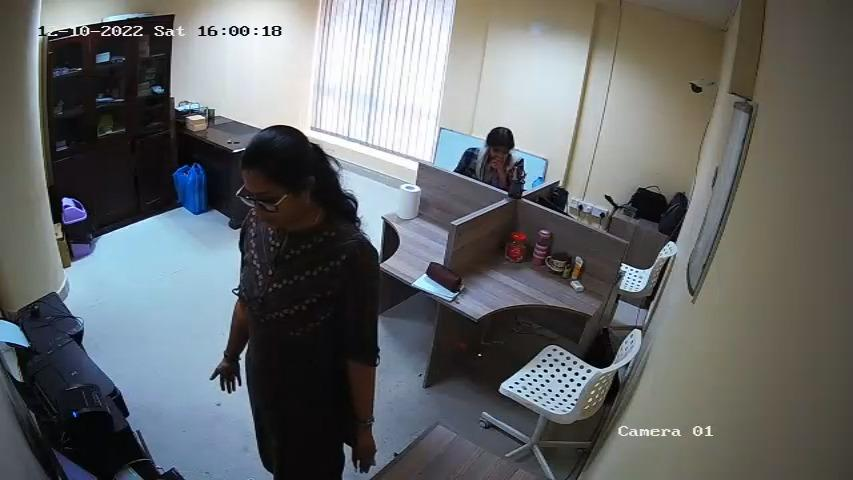no_gloves: (209, 358, 244, 394), (350, 431, 375, 472)
